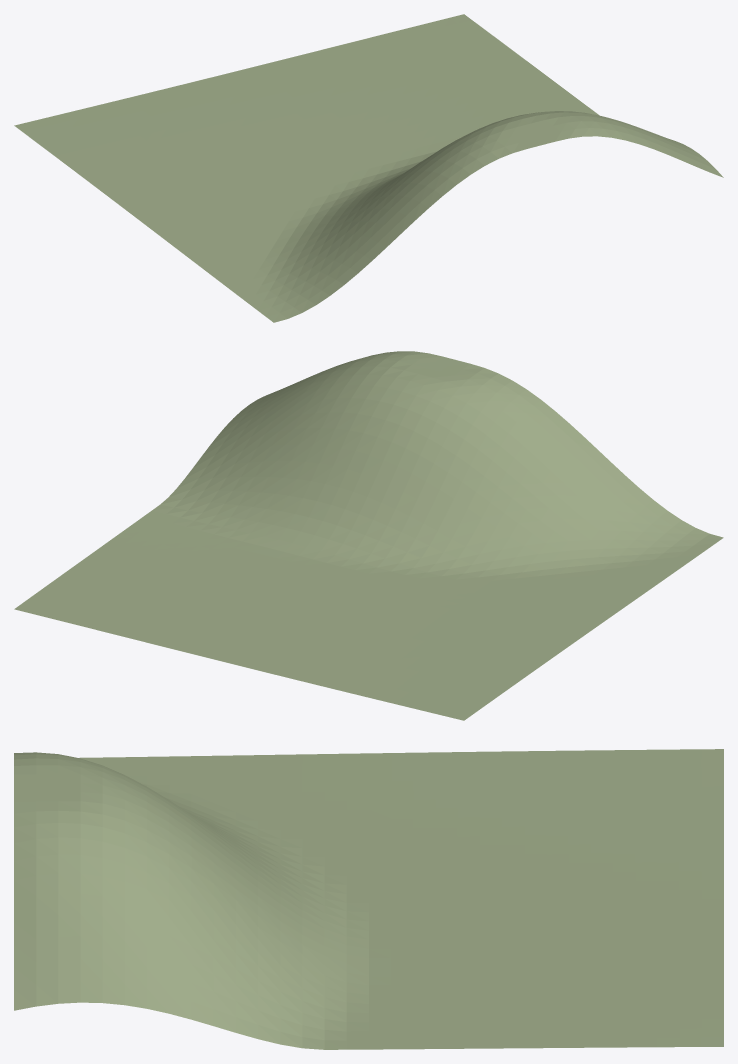
The model's file is desert-20-26.glb.
3 renders of one model, top to bottom at view 1: azimuth 30°, elevation 25°; view 2: azimuth 150°, elevation 25°; view 3: azimuth 270°, elevation 25°, orthographic. The views are drawn at different scales.
Visible parts, largest first — view 1: desert-20-26; view 2: desert-20-26; view 3: desert-20-26.
Part boxes in pixels (<box>): desert-20-26: <box>14,14,723,322</box>; desert-20-26: <box>14,351,723,720</box>; desert-20-26: <box>14,749,723,1049</box>.
Size of the model in its own units: 512 by 123 by 512.
